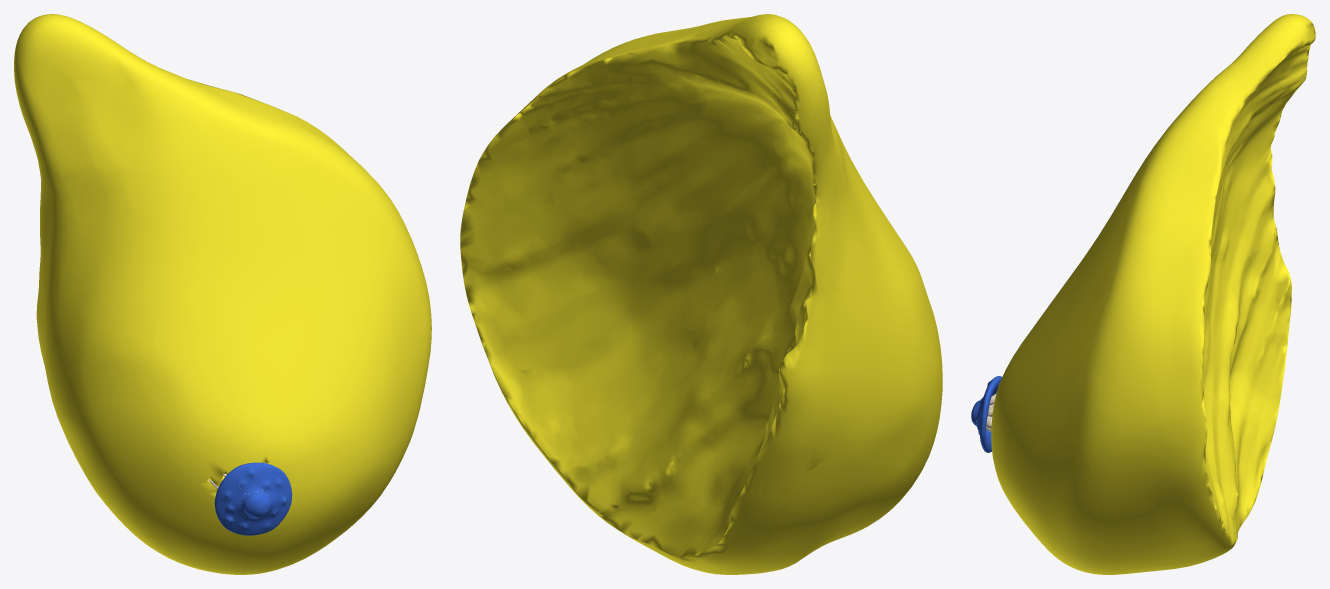
The model's file is 3d-vh-f-mammary-gland-r.glb.
The picture shows the model from 3 angles, left to right: view 1: azimuth 30°, elevation 25°; view 2: azimuth 150°, elevation 25°; view 3: azimuth 270°, elevation 25°; orthographic projection. The views are drawn at different scales.
Parts seen in each view (by area): view 1: VH_F_fat_R, VH_F_areola_R, VH_F_nipple_R, VH_F_areolar_tubercles_R; view 2: VH_F_fat_R; view 3: VH_F_fat_R, VH_F_areola_R.
Part boxes in pixels (box(x1,y1,x2,y2)): VH_F_fat_R: box(14, 14, 431, 574); VH_F_areola_R: box(214, 462, 292, 535); VH_F_nipple_R: box(241, 491, 271, 519); VH_F_areolar_tubercles_R: box(223, 468, 286, 530); VH_F_fat_R: box(460, 14, 942, 574); VH_F_fat_R: box(991, 14, 1315, 574); VH_F_areola_R: box(976, 376, 1002, 452).
Bounding box in the file's own units: 0.1283 × 0.18 × 0.1132.
